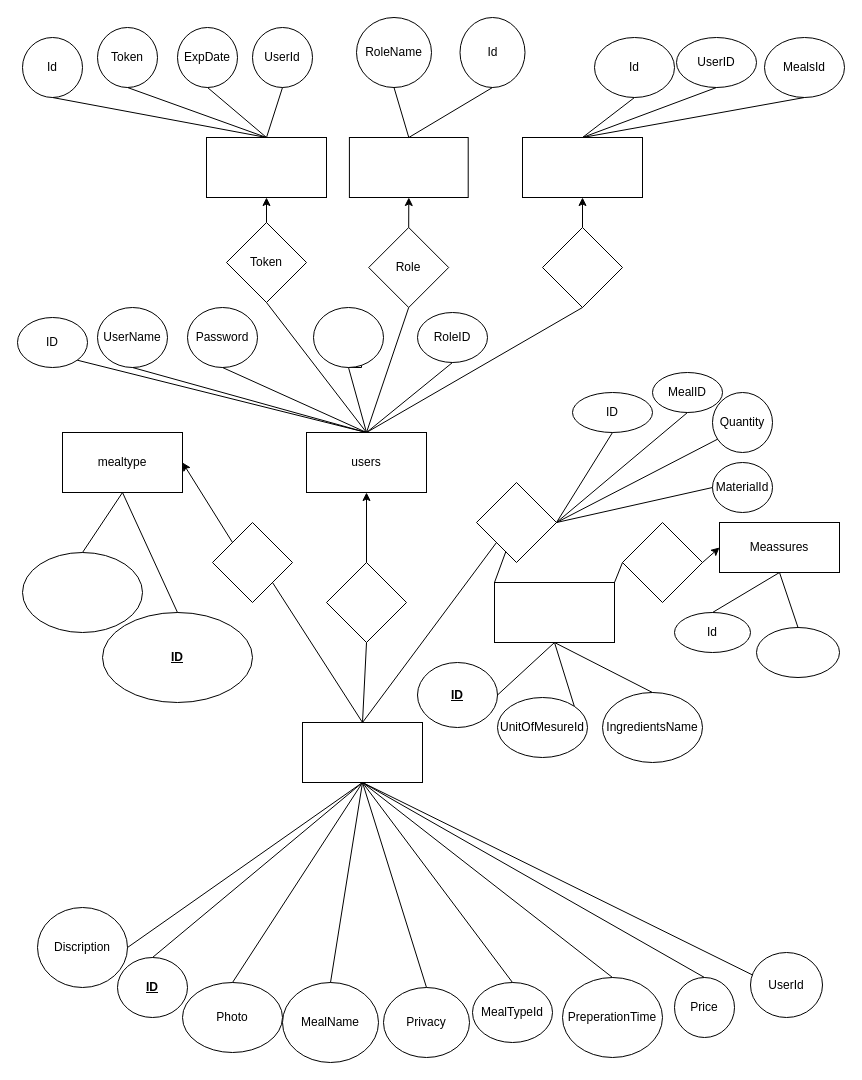
This 862x1080 diagram has some shape labels left out. The centre of each missing label's shape, as x and y in pixels:
author: the point at 366,602
Email: the point at 348,337
Favorite: the point at 582,267
Favorites: the point at 582,167
Ingredients: the point at 516,522
materials: the point at 554,612
meals: the point at 362,752
MealTypeName: the point at 82,592
meassure: the point at 662,562
Measure: the point at 798,652
Roles: the point at 408,167
Tokens: the point at 266,167
types: the point at 252,562
